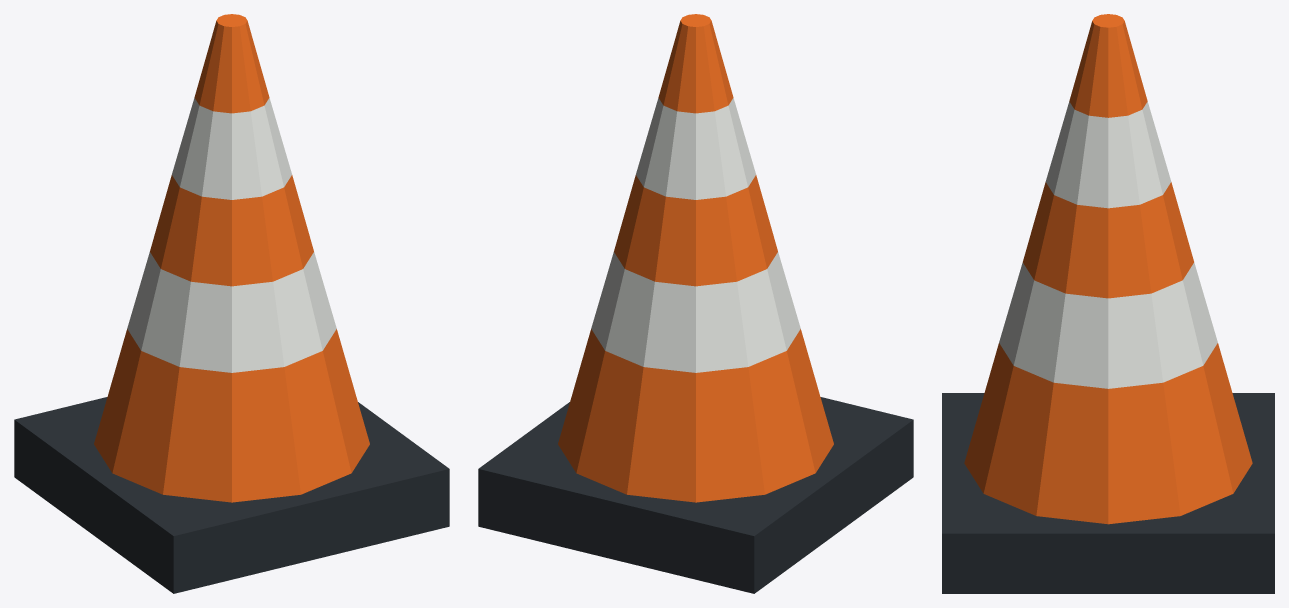
The model's file is cono-transito.glb.
The picture shows the model from 3 angles, left to right: view 1: azimuth 30°, elevation 25°; view 2: azimuth 150°, elevation 25°; view 3: azimuth 270°, elevation 25°; orthographic projection. The views are drawn at different scales.
Visible parts, largest first — view 1: Cono_base, Cono_franja_0, Cono_franja_1, Cono_franja_2, Cono_franja_3, Cono_franja_4; view 2: Cono_base, Cono_franja_0, Cono_franja_1, Cono_franja_2, Cono_franja_3, Cono_franja_4; view 3: Cono_franja_0, Cono_base, Cono_franja_1, Cono_franja_2, Cono_franja_3, Cono_franja_4.
Boxes of the visible parts, left/top/right/bottom form: Cono_base: left=14, top=397, right=449, bottom=593; Cono_franja_0: left=94, top=329, right=369, bottom=502; Cono_franja_1: left=127, top=252, right=336, bottom=372; Cono_franja_2: left=150, top=175, right=313, bottom=286; Cono_franja_3: left=172, top=98, right=291, bottom=199; Cono_franja_4: left=194, top=14, right=269, bottom=113; Cono_base: left=478, top=397, right=913, bottom=593; Cono_franja_0: left=558, top=329, right=833, bottom=502; Cono_franja_1: left=591, top=252, right=800, bottom=372; Cono_franja_2: left=614, top=175, right=777, bottom=286; Cono_franja_3: left=636, top=98, right=755, bottom=199; Cono_franja_4: left=658, top=14, right=733, bottom=113; Cono_franja_0: left=964, top=343, right=1252, bottom=524; Cono_base: left=942, top=393, right=1274, bottom=593; Cono_franja_1: left=999, top=262, right=1217, bottom=388; Cono_franja_2: left=1023, top=182, right=1193, bottom=298; Cono_franja_3: left=1045, top=101, right=1171, bottom=208; Cono_franja_4: left=1069, top=14, right=1147, bottom=117.
Bounding box in the file's own units: 0.45 × 0.75 × 0.45.
